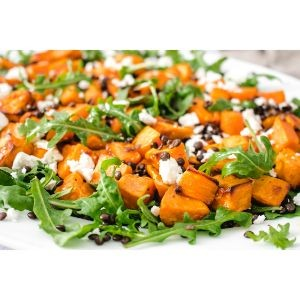sweet potato_brain food: (19, 61, 279, 209)
